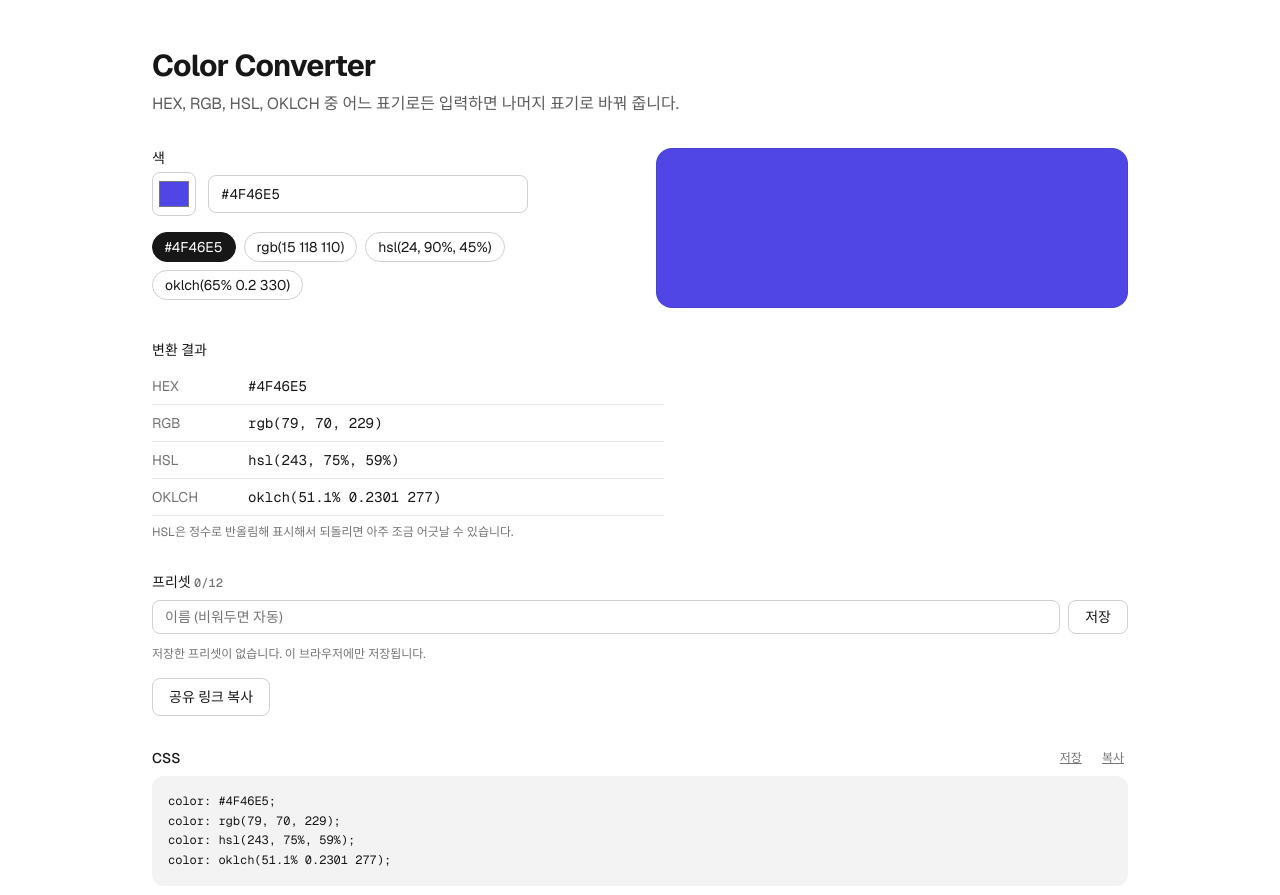
Scenario: ColorConverter › 예시 칩을 누르면 그 색으로 바뀐다
The image size is (1280, 895).
Click the button "hsl(24, 90%, 45%)" at [435, 247], box top-left (365, 232), bottom-right (505, 262)
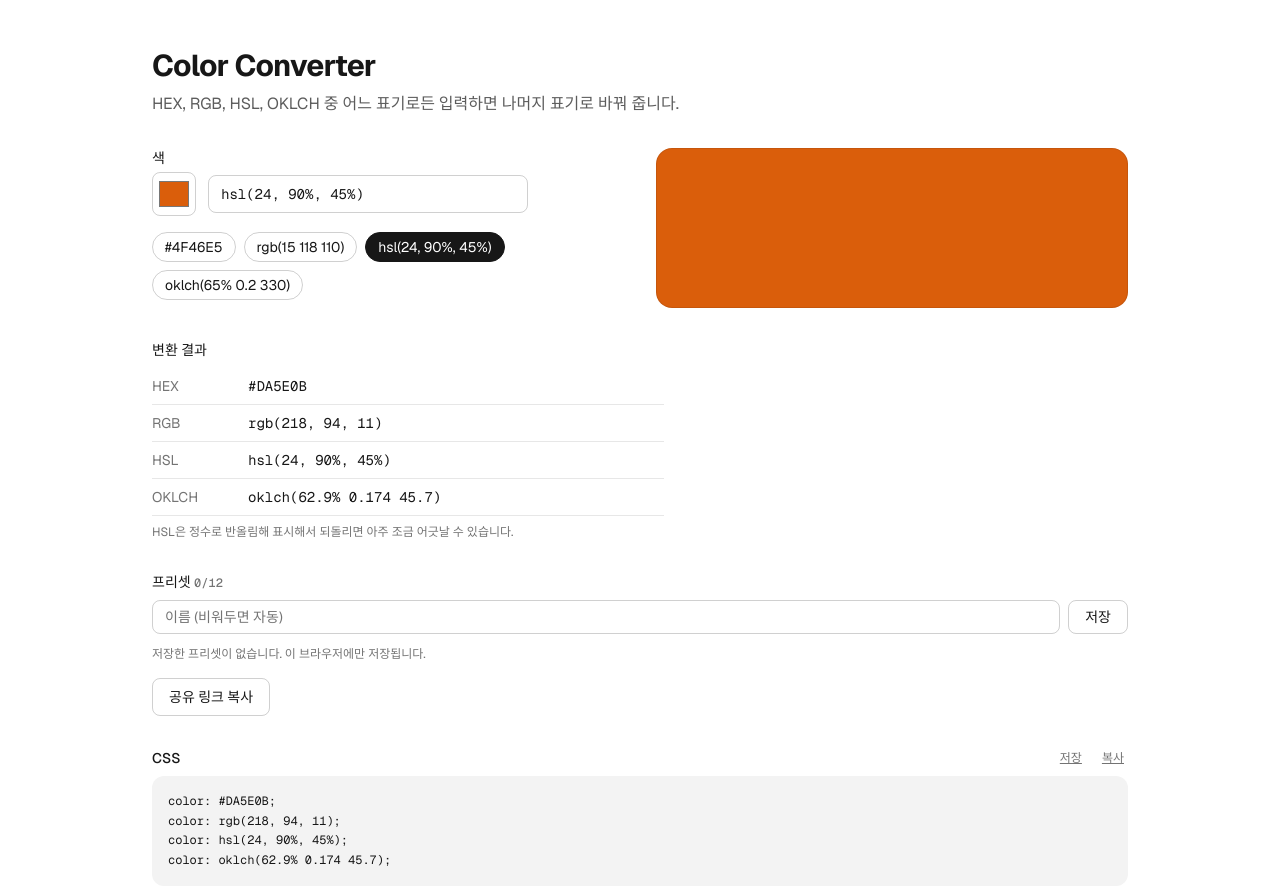
expect the field labelled "색" holds "hsl(24, 90%, 45%)": met, box top-left (208, 175), bottom-right (528, 213)
